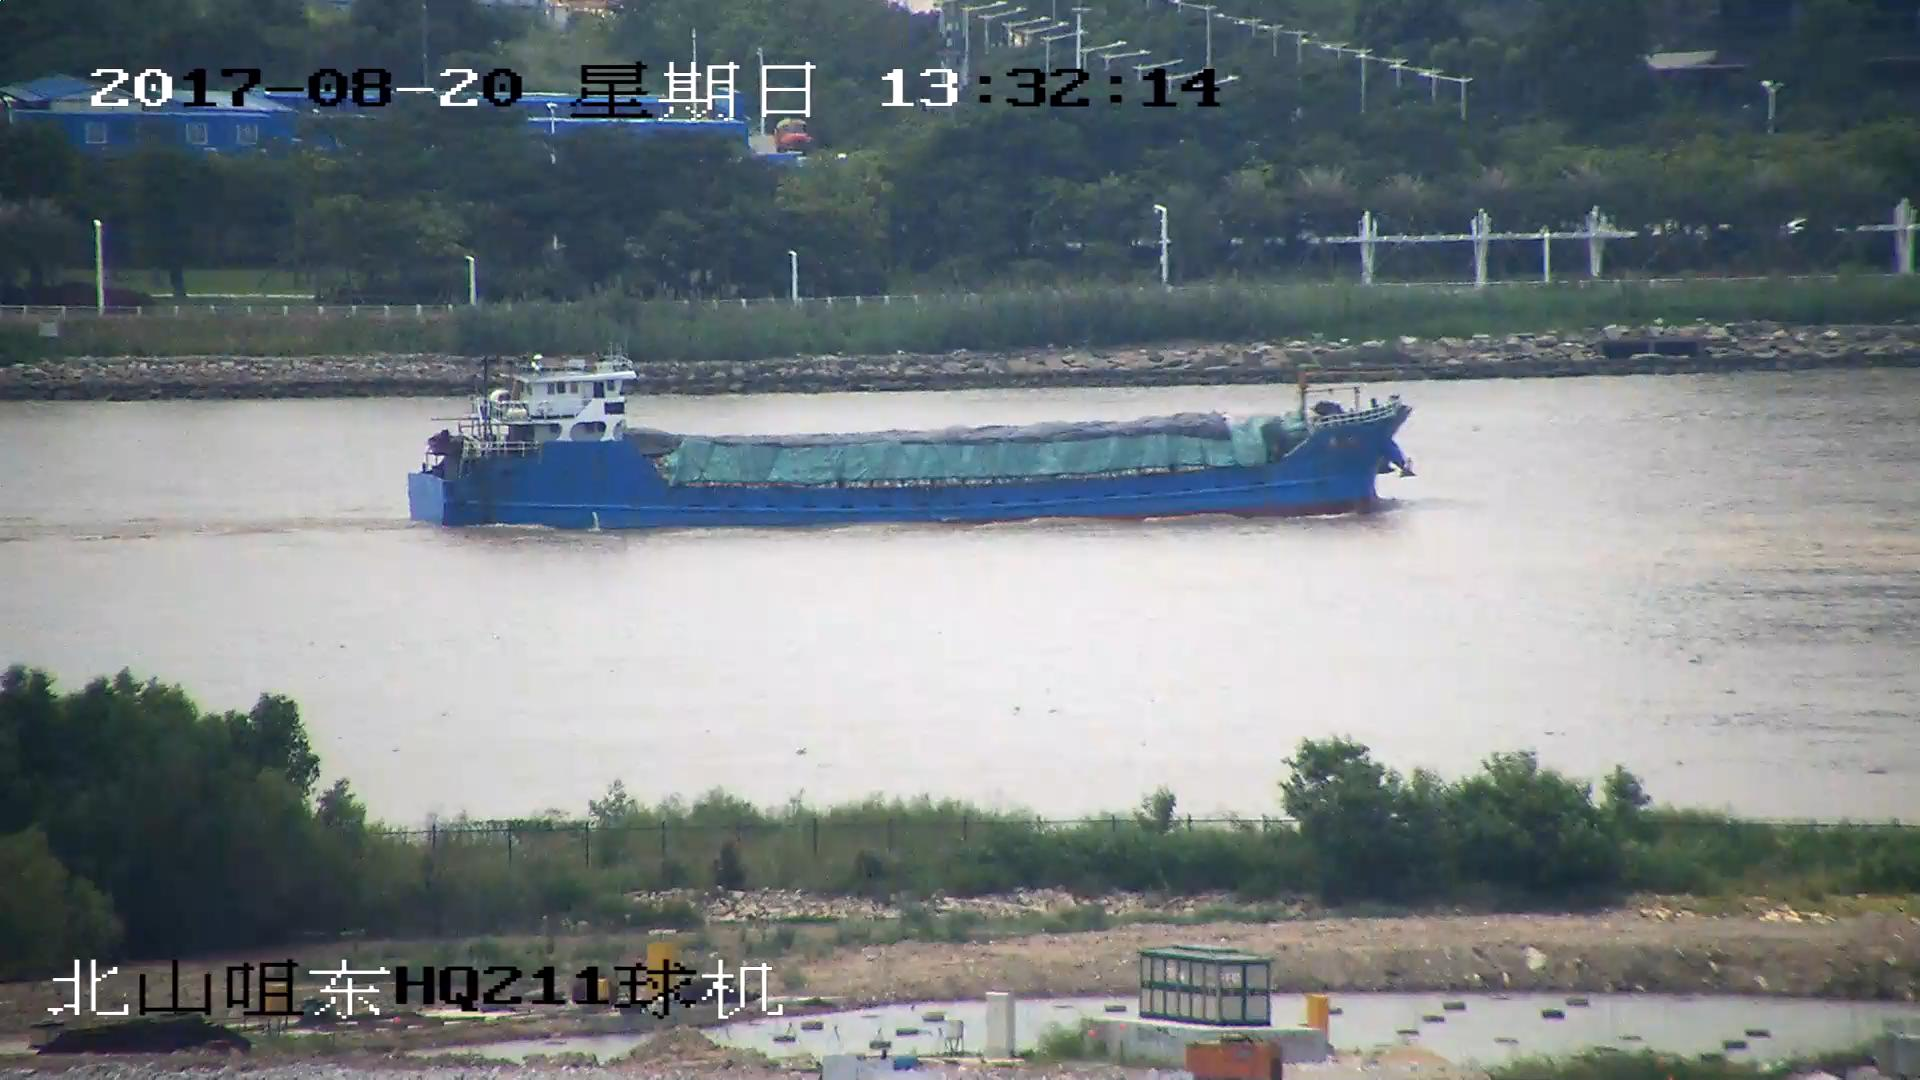general cargo ship: (411, 352, 1417, 526)
